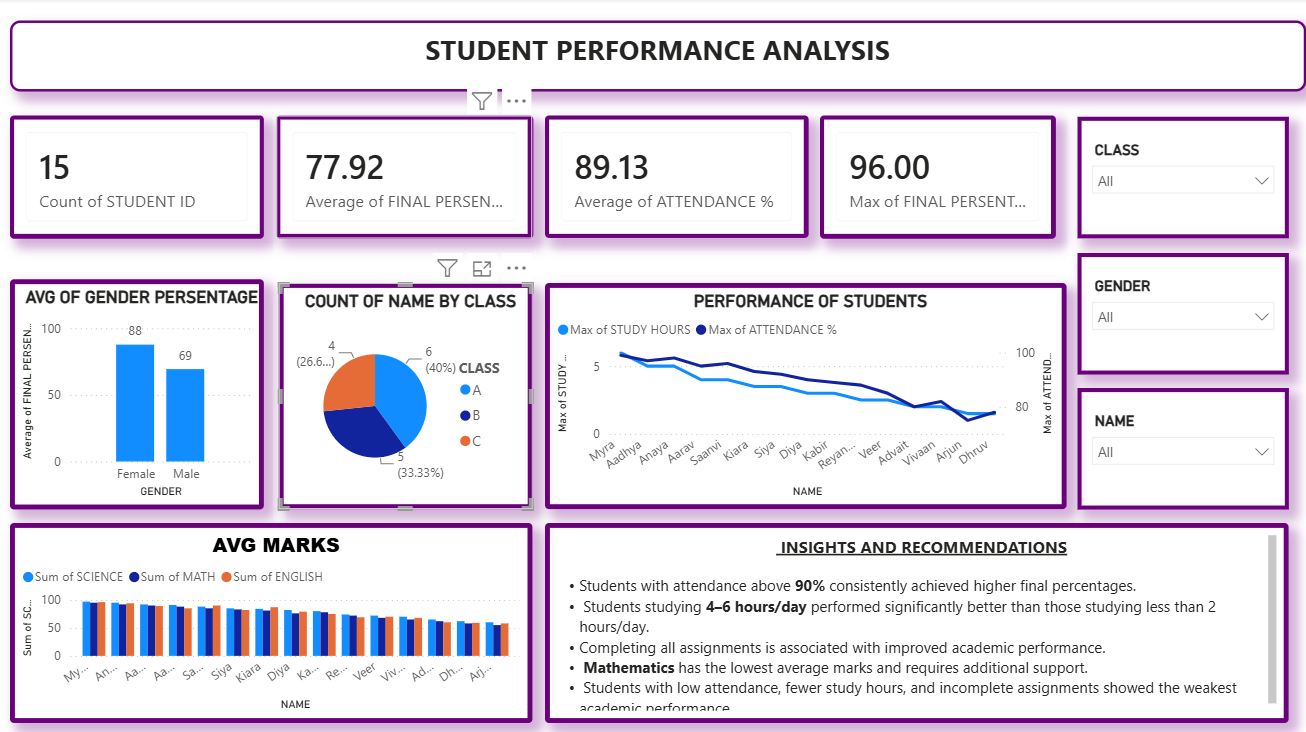

The page's visual inventory and layout, read from the dashboard file:
{"tool":"powerbi","page":{"name":"Page 1","canvas":[1280,720],"ordinal":0},"visuals":[{"type":"textbox","box":[9.6,22,1270.7,70],"z":0},{"type":"cardVisual","fields":{"Data":["CountNonNull(Class (Sheet1).STUDENT ID )"]},"box":[9.5,115,249,120.4],"z":1},{"type":"cardVisual","fields":{"Data":["Avg(Class (Sheet1).FINAL  PERSENTAGE)"]},"box":[270.7,115,251.7,120.4],"z":2},{"type":"cardVisual","fields":{"Data":["Avg(Class (Sheet1).ATTENDANCE %)"]},"box":[534.2,115.2,258.5,120.1],"z":3},{"type":"cardVisual","fields":{"Data":["Max(Class (Sheet1).FINAL  PERSENTAGE)"]},"box":[803.9,115,231.4,120.4],"z":4},{"type":"columnChart","title":"AVG OF GENDER PERSENTAGE ","fields":{"Category":["Class (Sheet1).GENDER"],"Y":["Avg(Class (Sheet1).FINAL  PERSENTAGE)"]},"box":[9.8,275.7,248.7,225.4],"z":5},{"type":"pieChart","title":"COUNT OF NAME BY  CLASS","fields":{"Category":["Class (Sheet1).CLASS"],"Y":["CountNonNull(Class (Sheet1).NAME )"]},"box":[273.2,279.3,248.7,221.7],"z":6},{"type":"slicer","fields":{"Values":["Class (Sheet1).CLASS"]},"box":[1055.6,116.4,207.1,119.1],"z":7},{"type":"slicer","fields":{"Values":["Class (Sheet1).NAME "]},"box":[1055.6,381.6,207.1,119.1],"z":9},{"type":"slicer","fields":{"Values":["Class (Sheet1).GENDER"]},"box":[1055.6,250.4,207.1,119.1],"z":10},{"type":"clusteredColumnChart","title":"AVG MARKS ","fields":{"Category":["Class (Sheet1).NAME "],"Y":["Sum(Class (Sheet1).SCIENCE)","Sum(Class (Sheet1).MATH)","Sum(Class (Sheet1).ENGLISH)"]},"box":[9.8,514.5,512.1,196],"z":11},{"type":"lineChart","title":"PERFORMANCE OF STUDENTS","fields":{"Category":["Class (Sheet1).NAME "],"Y":["Max(Class (Sheet1).STUDY HOURS)"],"Y2":["Max(Class (Sheet1).ATTENDANCE %)"]},"box":[534.2,279.3,510.9,221.7],"z":12},{"type":"textbox","box":[534.2,514.5,728.9,196],"z":13}]}

Visuals, with their boxes in screenshot pixels (x1, y1, x2, y2), scaled from the page's 1280x720 canvas onto the 1306x732 screenshot:
textbox: region(10, 22, 1305, 94)
cardVisual - CountNonNull(Class (Sheet1).STUDENT ID ): region(10, 117, 264, 239)
cardVisual - Avg(Class (Sheet1).FINAL  PERSENTAGE): region(276, 117, 533, 239)
cardVisual - Avg(Class (Sheet1).ATTENDANCE %): region(545, 117, 809, 239)
cardVisual - Max(Class (Sheet1).FINAL  PERSENTAGE): region(820, 117, 1056, 239)
"AVG OF GENDER PERSENTAGE " columnChart: region(10, 280, 264, 509)
"COUNT OF NAME BY  CLASS" pieChart: region(279, 284, 533, 509)
slicer - Class (Sheet1).CLASS: region(1077, 118, 1288, 239)
slicer - Class (Sheet1).NAME : region(1077, 388, 1288, 509)
slicer - Class (Sheet1).GENDER: region(1077, 255, 1288, 376)
"AVG MARKS " clusteredColumnChart: region(10, 523, 533, 722)
"PERFORMANCE OF STUDENTS" lineChart: region(545, 284, 1066, 509)
textbox: region(545, 523, 1289, 722)
